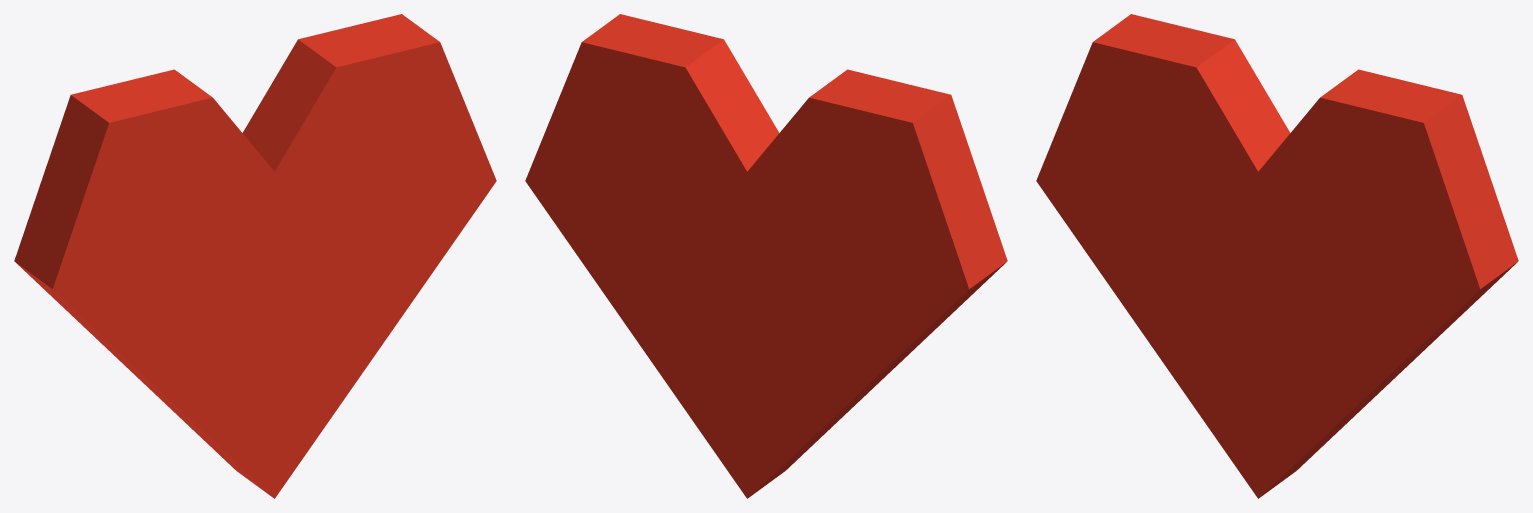
Rendered from Icon_Heart_01.fbx.
3 views of the same model, side by side, from view 1: azimuth 30°, elevation 25°; view 2: azimuth 150°, elevation 25°; view 3: azimuth 330°, elevation 25° (orthographic).
Visible parts, largest first — view 1: Icon_Heart_01; view 2: Icon_Heart_01; view 3: Icon_Heart_01.
Boxes of the visible parts, left/top/right/bottom form: Icon_Heart_01: left=14, top=14, right=496, bottom=498; Icon_Heart_01: left=525, top=14, right=1007, bottom=498; Icon_Heart_01: left=1036, top=14, right=1518, bottom=498.
Bounding box in the file's own units: 80.43 × 72.08 × 12.06.
